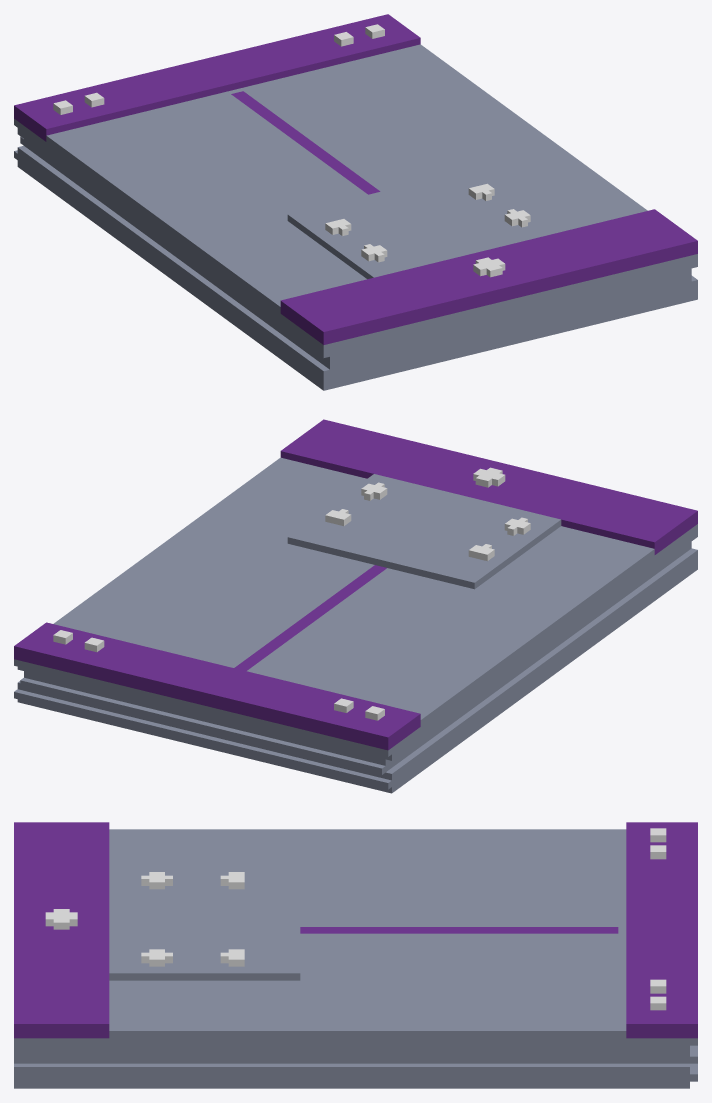
File: parabolan_breeches.glb
3 renders of one model, top to bottom at view 1: azimuth 30°, elevation 25°; view 2: azimuth 150°, elevation 25°; view 3: azimuth 270°, elevation 25°, orthographic. The views are drawn at different scales.
Parts seen in each view (by area): view 1: parabolan_breeches:compound; view 2: parabolan_breeches:compound; view 3: parabolan_breeches:compound.
Part boxes in pixels (x1=…): parabolan_breeches:compound: x1=14, y1=14, x2=697, y2=390; parabolan_breeches:compound: x1=14, y1=419, x2=697, y2=793; parabolan_breeches:compound: x1=14, y1=822, x2=697, y2=1088.
Bounding box in the file's own units: 0.24 × 0.04 × 0.344.
